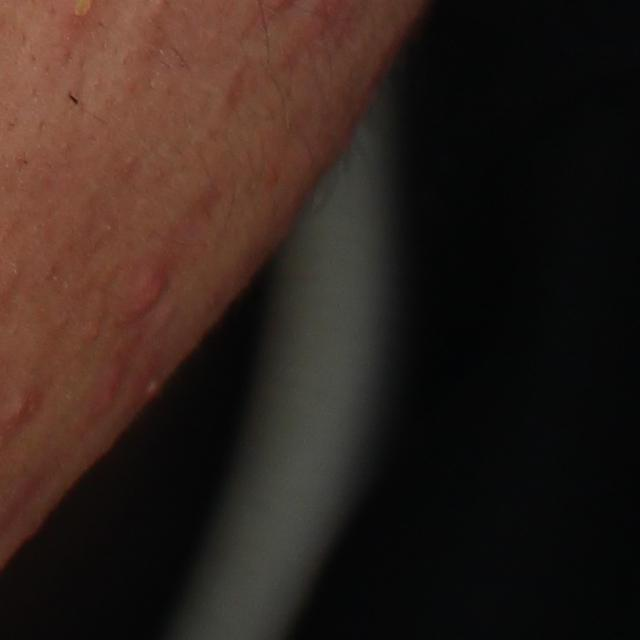papule: (111, 261, 179, 324), (96, 353, 126, 413), (9, 381, 41, 424)
pustule: (140, 368, 163, 402)
